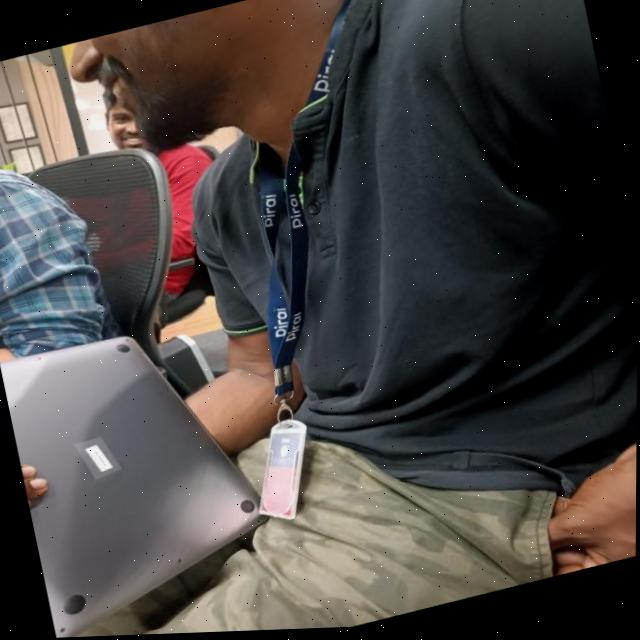id_card: (171, 54, 444, 533)
